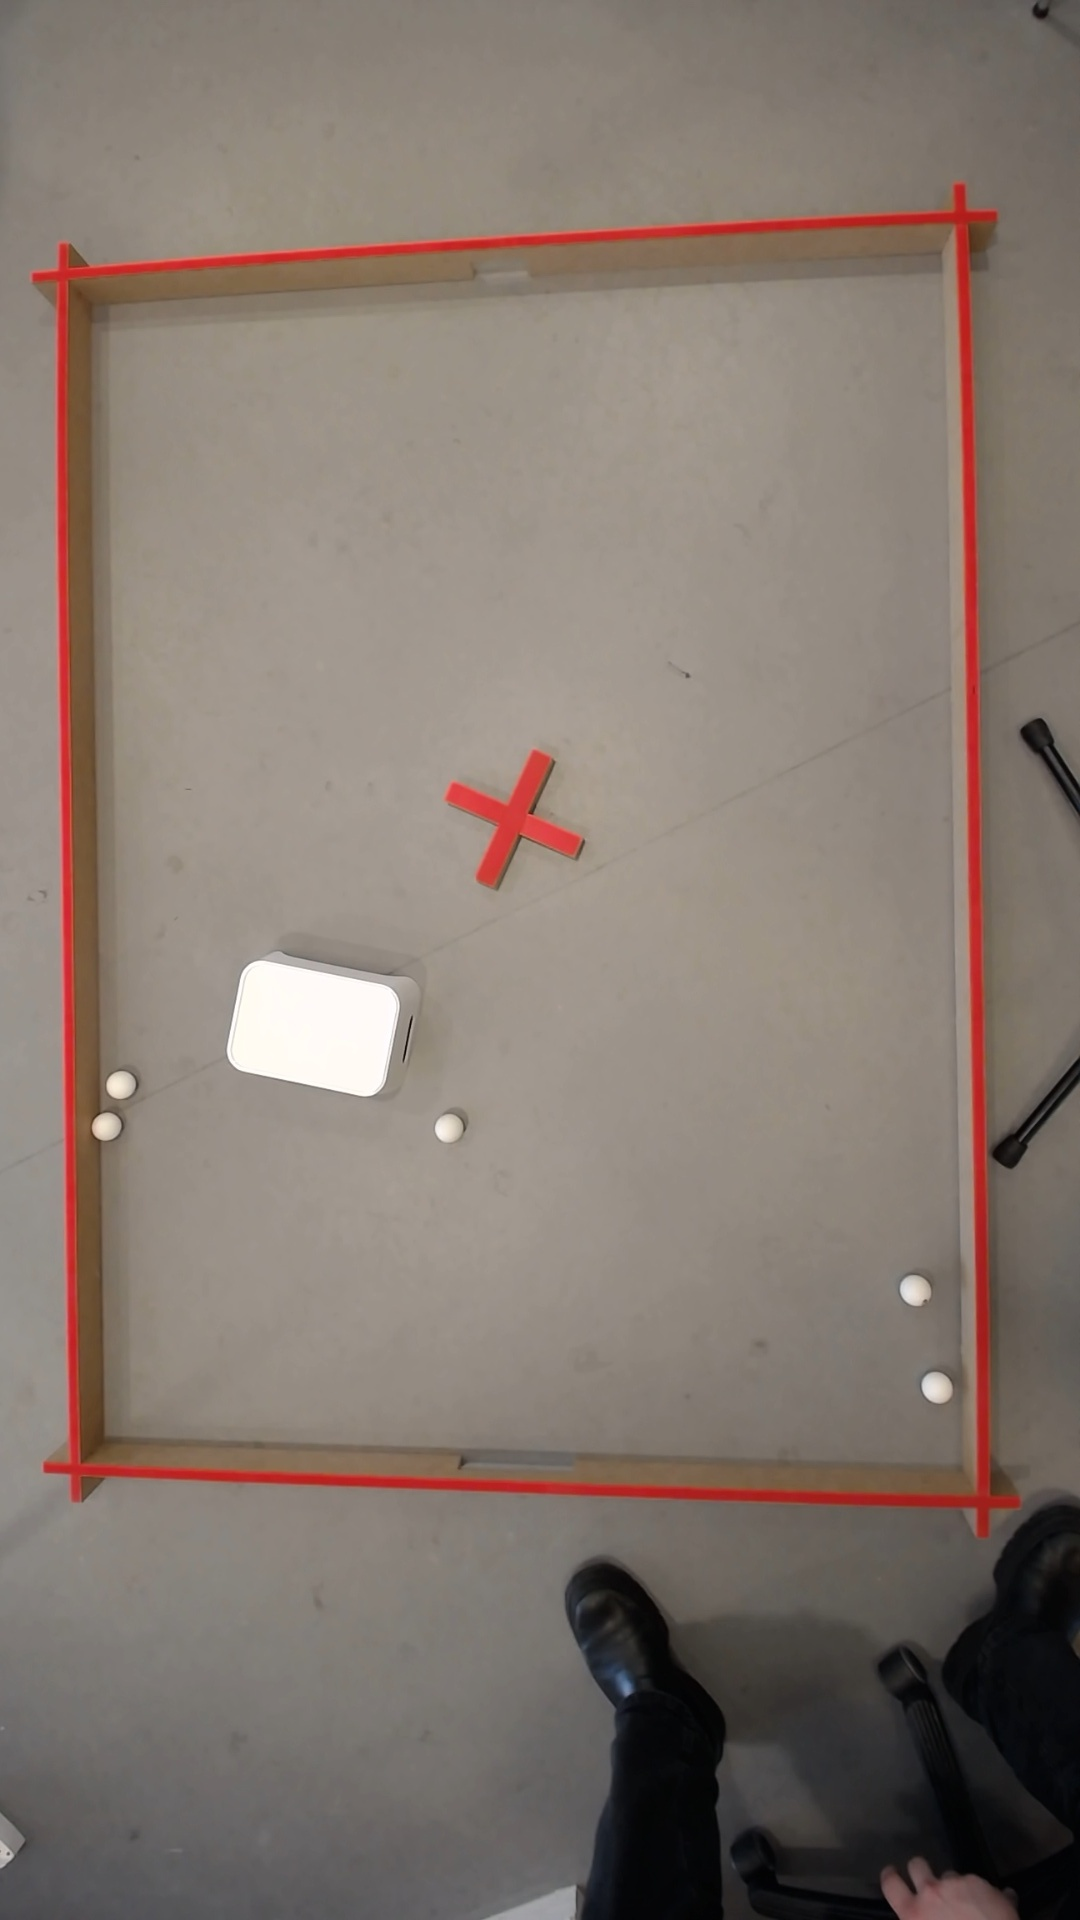balls: (220, 953, 404, 1100), (916, 1370, 952, 1404), (894, 1273, 928, 1308), (100, 1068, 135, 1101), (430, 1112, 460, 1143)
car: (90, 1112, 117, 1141)
